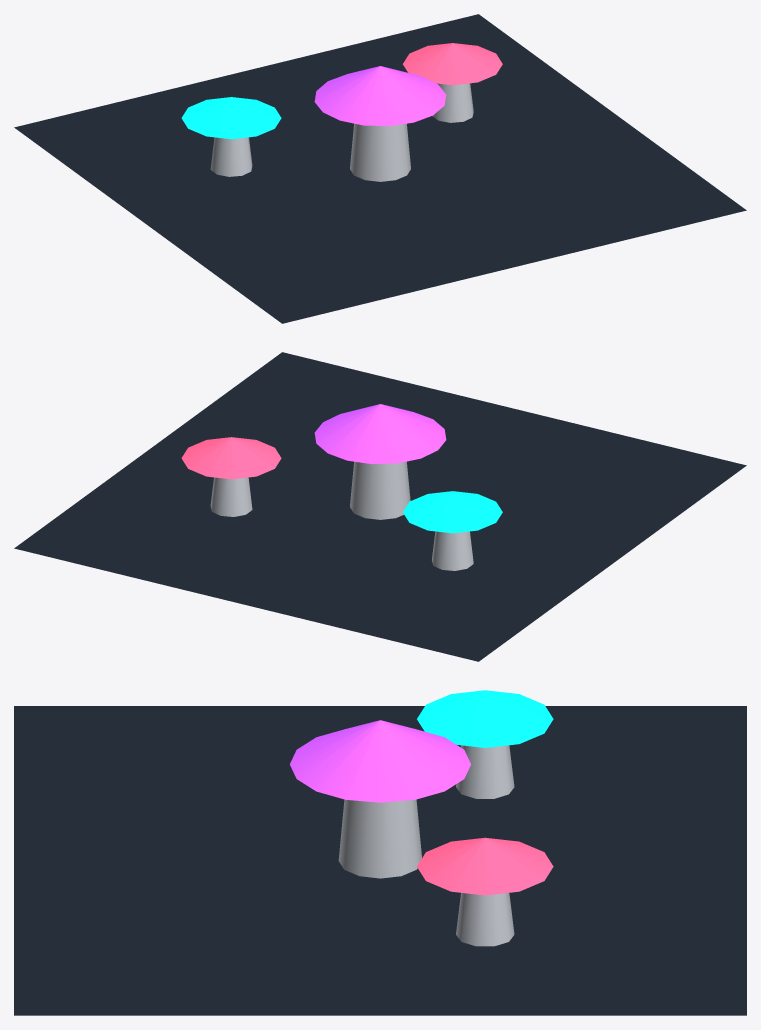
Rendered from nor_05.glb.
3 renders of one model, top to bottom at view 1: azimuth 30°, elevation 25°; view 2: azimuth 150°, elevation 25°; view 3: azimuth 270°, elevation 25°, orthographic. The views are drawn at different scales.
Parts seen in each view (by area): view 1: scenario_base_floor, NOR_05; view 2: scenario_base_floor, NOR_05; view 3: scenario_base_floor, NOR_05.
Boxes of the visible parts, x1,y1,x2,y2 form: scenario_base_floor: (14, 14, 746, 323); NOR_05: (181, 43, 502, 181); scenario_base_floor: (14, 352, 746, 661); NOR_05: (181, 404, 502, 570); scenario_base_floor: (14, 706, 746, 1015); NOR_05: (290, 690, 553, 946).
Size of the model in its own units: 42 by 8.9 by 42.
